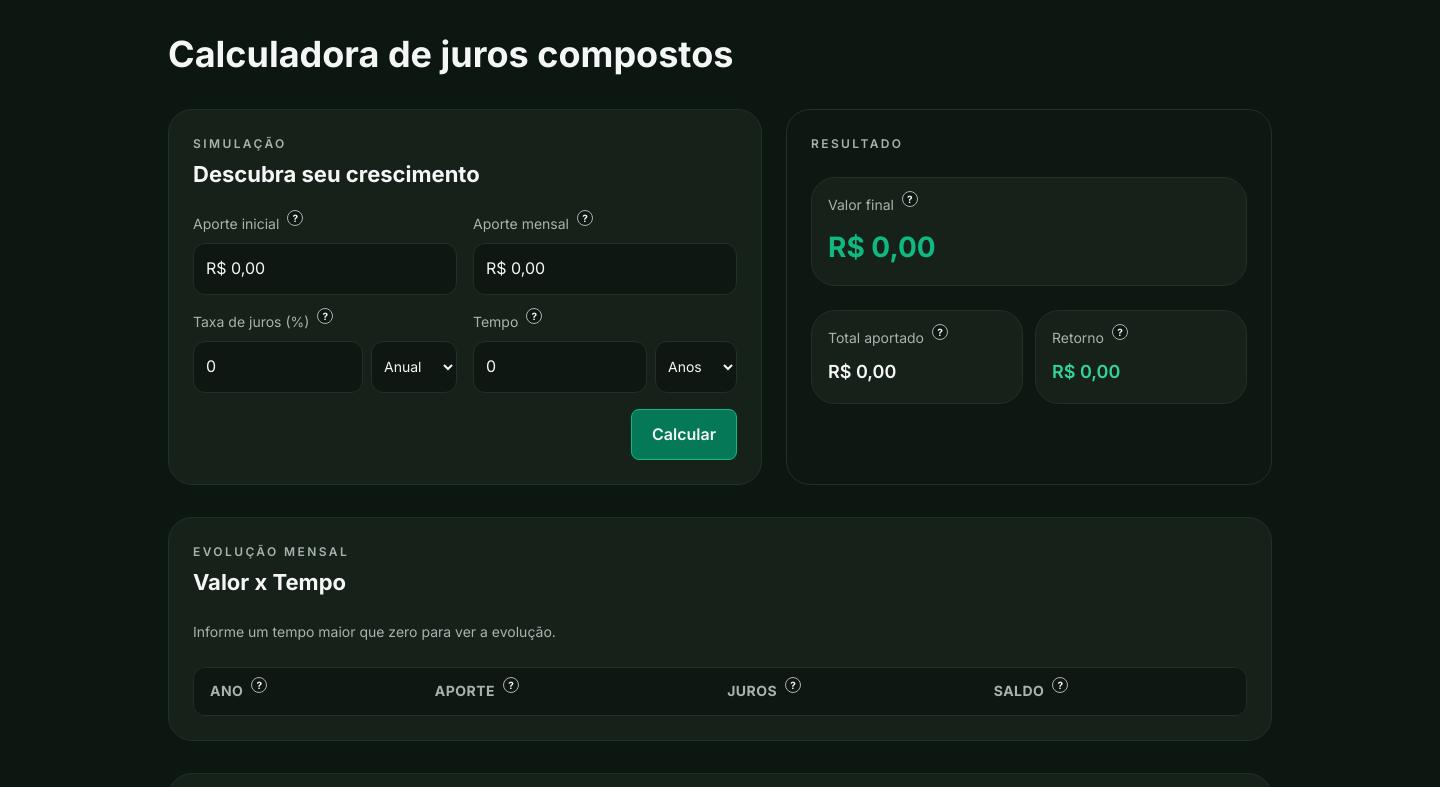
Test: CompoundInterestCalculator › lists the breakdown by year when the period is set in years
Type "10000" into the field labelled "Aporte mensal" at coordinates (605, 269), box [473,243,737,295]
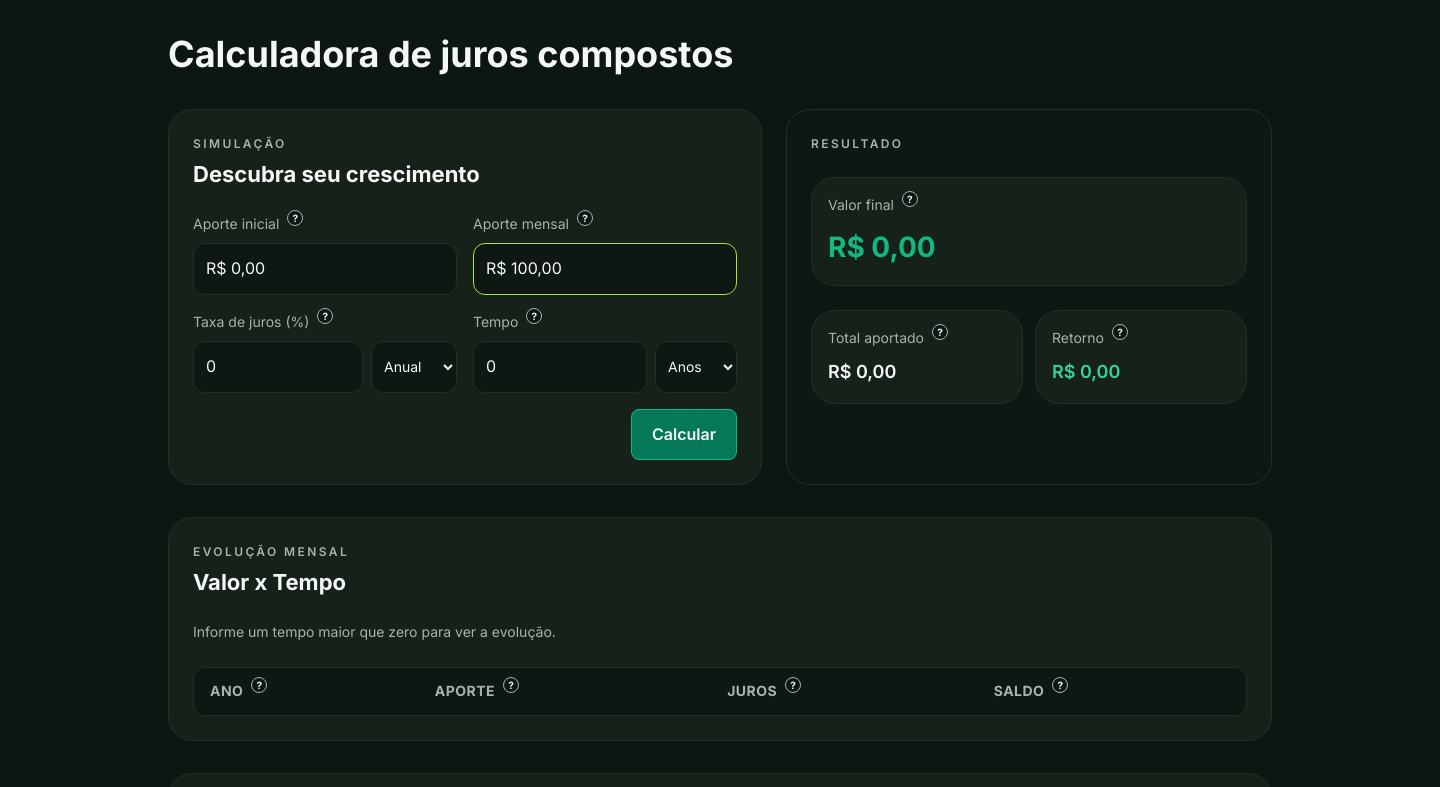
Replace the text in the field labelled "Tempo" with "2" at coordinates (560, 367), box [473,341,647,393]
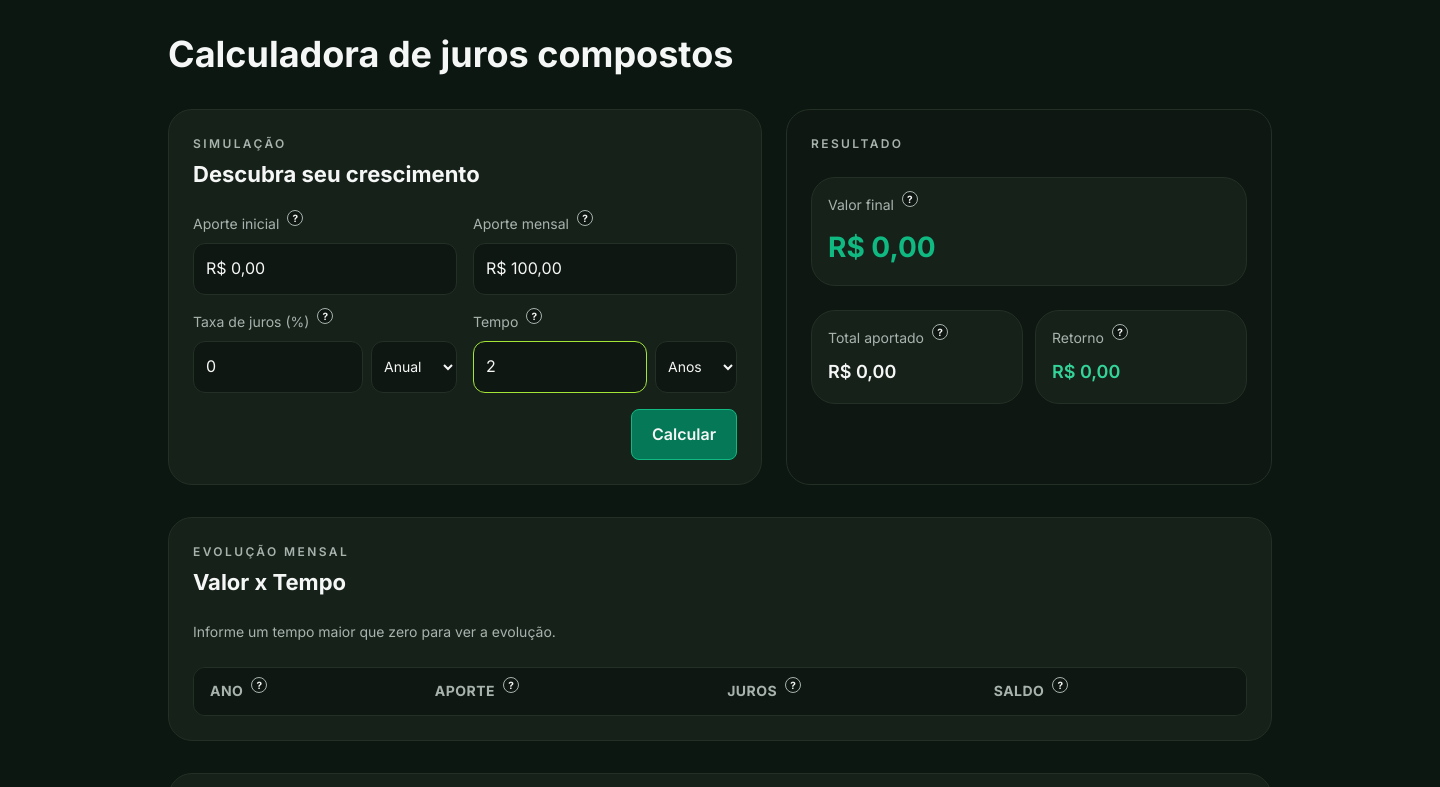
Click the button "Calcular" at coordinates (684, 434), box [631,409,737,460]
(page scrolled)
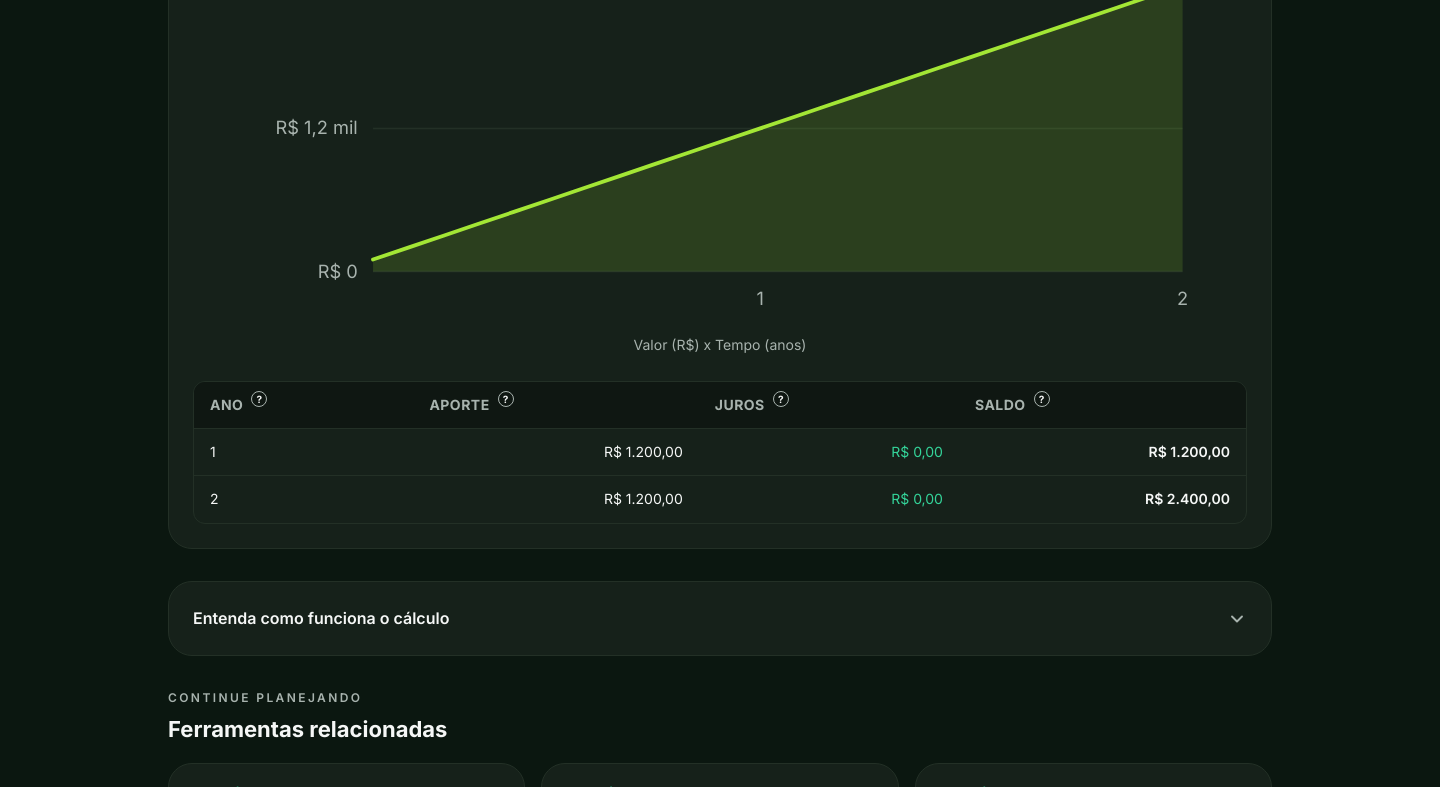
Expected: the column heading "Ano" is shown, [194,382,413,428]
Expected: the number of rows is 3, [194,382,1246,428]; [194,428,1246,476]; [194,476,1246,523]
